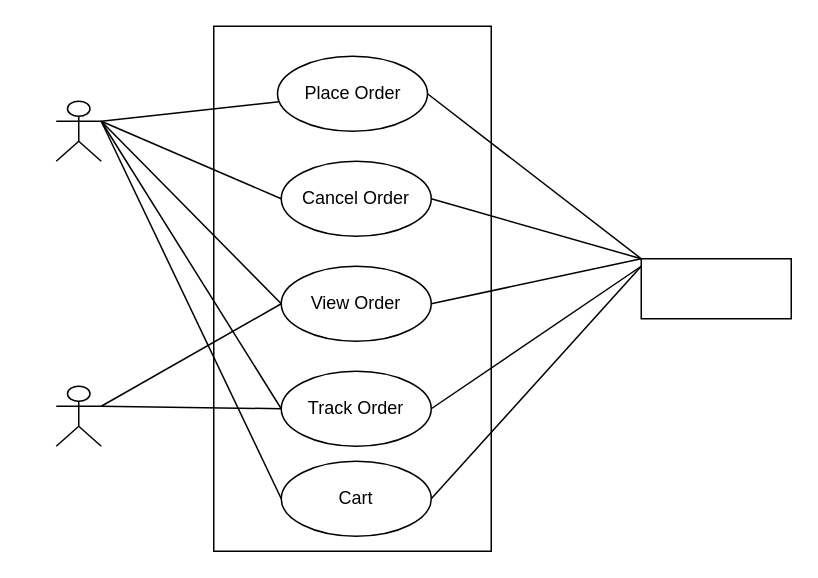
This 818x578 diagram has some shape labels left out. Each missing label, with the centre of its shape:
Administrator: point (78, 415)
Customer: point (78, 130)
Database: point (715, 288)
